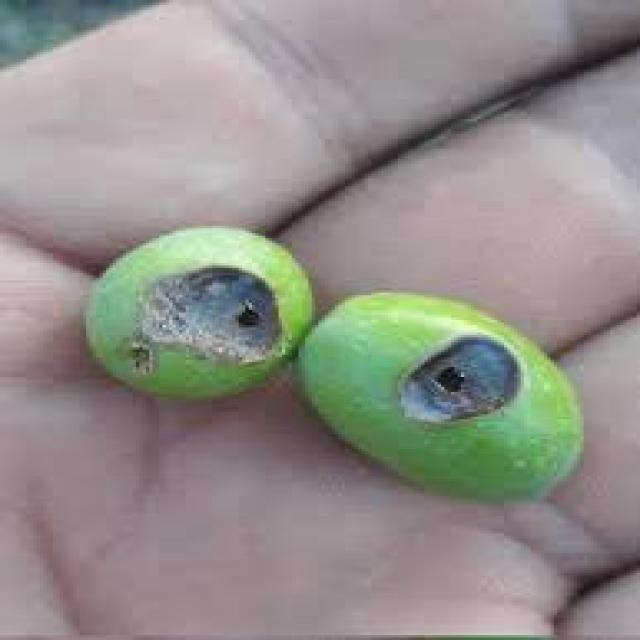Olive Fruit Fly: (298, 293, 580, 528), (90, 228, 312, 394)
